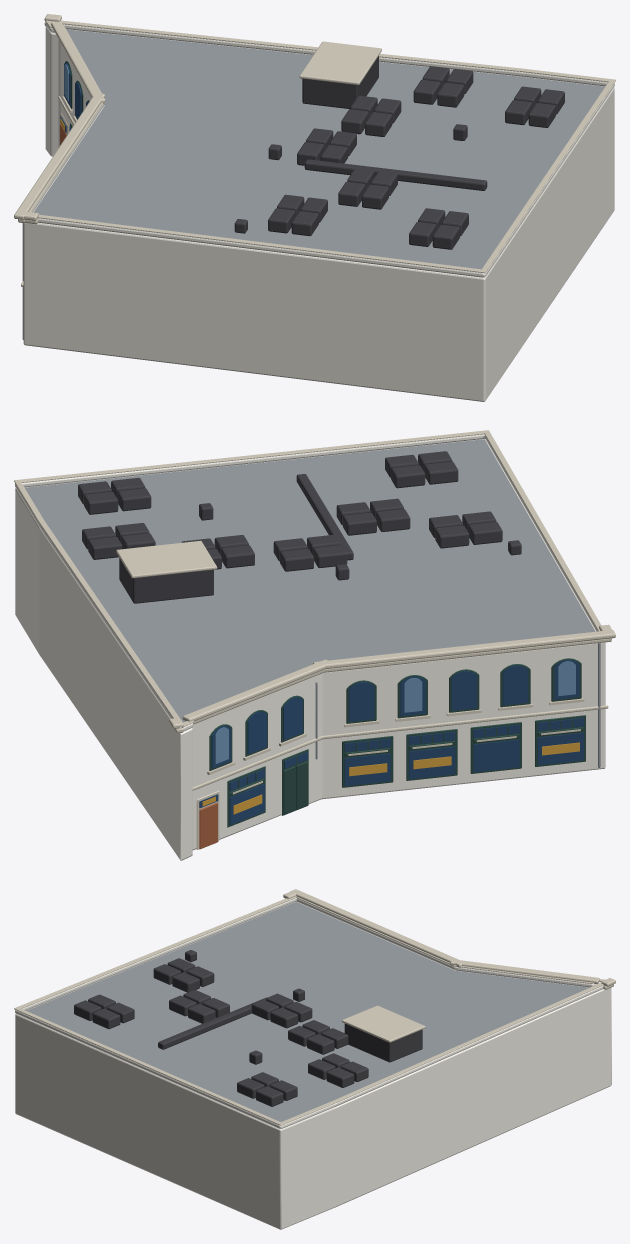
The model's file is 21-south-park.glb.
The picture shows the model from 3 angles, top to bottom: view 1: azimuth 30°, elevation 25°; view 2: azimuth 150°, elevation 25°; view 3: azimuth 270°, elevation 25°; orthographic projection. The views are drawn at different scales.
Visible parts, largest first — view 1: grp_Toy_white, grp_Toy_steel, grp_Toy_roofd, grp_Toy_stone; view 2: grp_Toy_steel, grp_Toy_white, grp_Toy_roofd, grp_Toy_stone, grp_Toy_glass, grp_Toy_sash, grp_Toy_glassl_Glow, grp_Toy_mustard_Glow, entry_door; view 3: grp_Toy_white, grp_Toy_steel, grp_Toy_roofd, grp_Toy_stone.
Part boxes in pixels (x1,y1,x2,y2): grp_Toy_white: (23,23,614,401); grp_Toy_steel: (22,29,604,339); grp_Toy_roofd: (234,56,564,249); grp_Toy_stone: (14,14,615,286); grp_Toy_steel: (25,439,600,767); grp_Toy_white: (15,434,605,860); grp_Toy_roofd: (78,451,521,603); grp_Toy_stone: (14,430,615,849); grp_Toy_glass: (199,660,583,825); grp_Toy_sash: (209,658,585,827); grp_Toy_glassl_Glow: (215,661,575,764); grp_Toy_mustard_Glow: (202,742,579,814); entry_door: (199,802,217,849); grp_Toy_white: (15,898,611,1229); grp_Toy_steel: (26,902,589,1121); grp_Toy_roofd: (74,950,422,1106); grp_Toy_stone: (14,889,615,1125).
Bounding box in the file's own units: 47.36 × 11.73 × 51.49.
